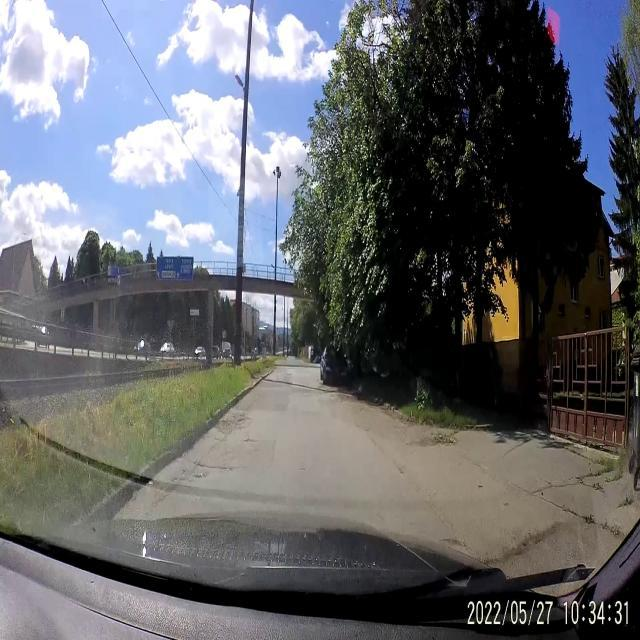Pothole: (214, 408, 256, 436), (190, 462, 240, 481), (392, 460, 410, 486), (439, 536, 470, 546), (242, 437, 260, 448)
